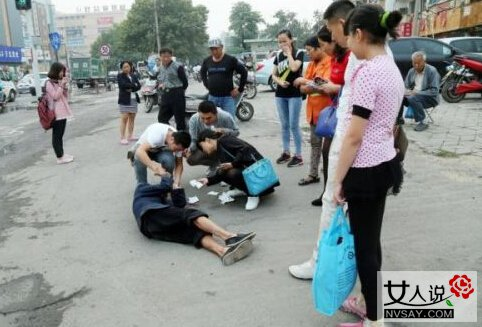fall: (126, 170, 258, 268)
